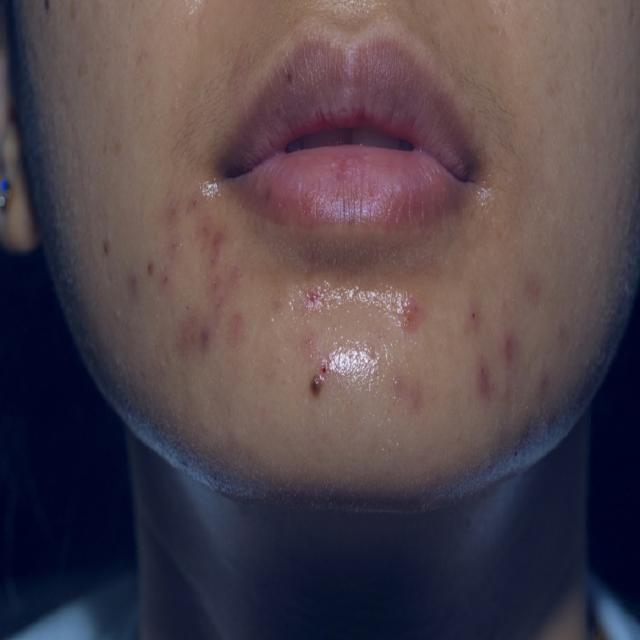Acne: (96, 187, 589, 480)
